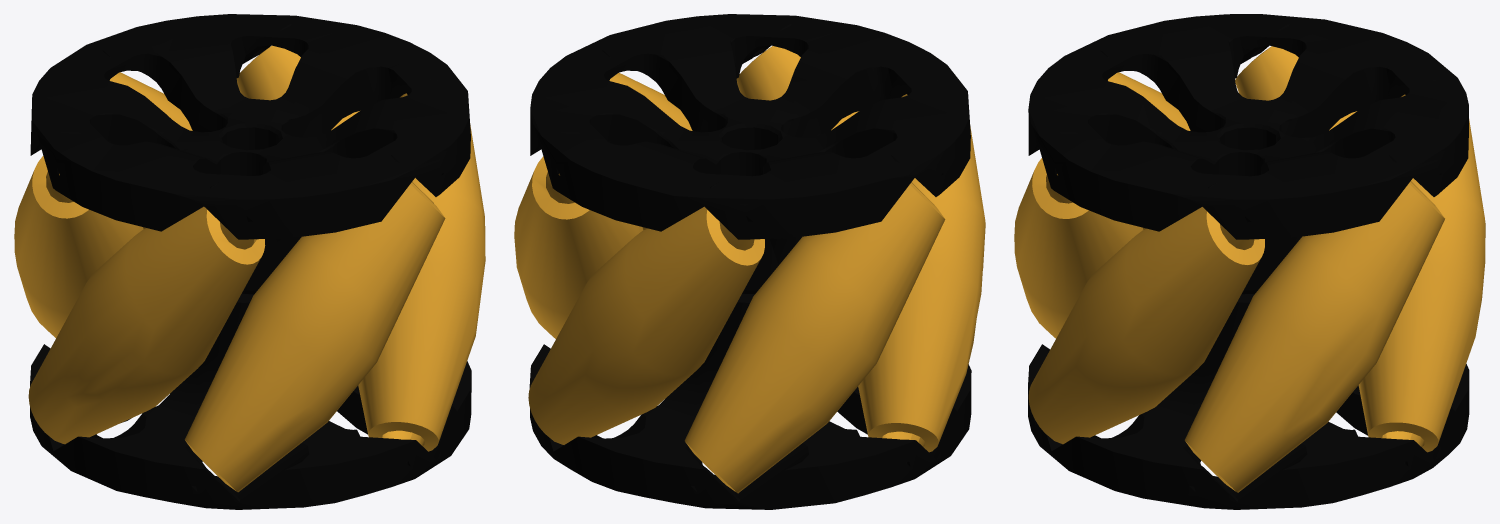
File: YoubotPlatform_FrontLeftWheel.dae
3 views of the same model, side by side, from view 1: azimuth 30°, elevation 25°; view 2: azimuth 150°, elevation 25°; view 3: azimuth 270°, elevation 25° (orthographic).
Visible parts, largest first — view 1: front-left_wheel_outer, front-left_wheel_inner; view 2: front-left_wheel_outer, front-left_wheel_inner; view 3: front-left_wheel_outer, front-left_wheel_inner.
Part boxes in pixels (x1,y1,x2,y2): front-left_wheel_outer: (30, 14, 471, 509); front-left_wheel_inner: (14, 45, 485, 492); front-left_wheel_outer: (529, 14, 971, 509); front-left_wheel_inner: (514, 46, 985, 493); front-left_wheel_outer: (1028, 14, 1469, 509); front-left_wheel_inner: (1014, 46, 1485, 492).
Bounding box in the file's own units: 0.0993 × 0.0997 × 0.0731.
